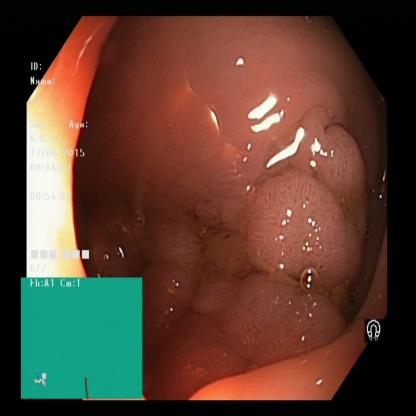Labels: (30, 57, 104, 279), (20, 276, 144, 398), (357, 308, 390, 352)
Polyps: (241, 157, 371, 291)
